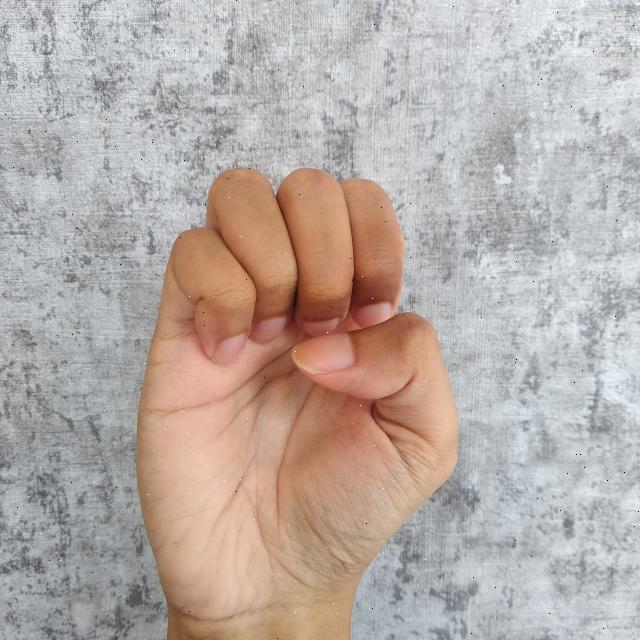E: (135, 163, 462, 640)
